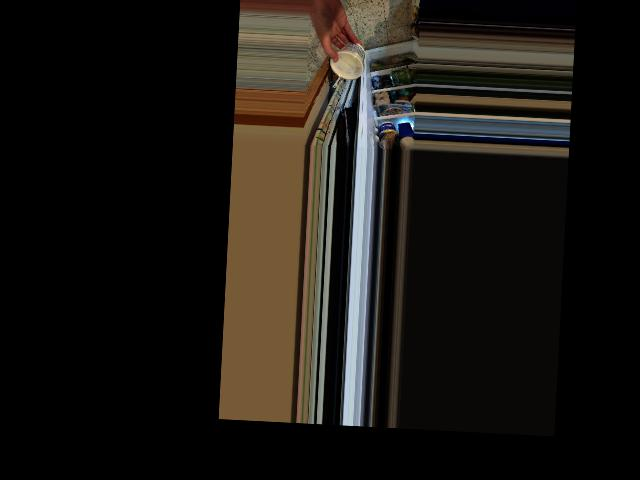cotage: (332, 43, 363, 79)
